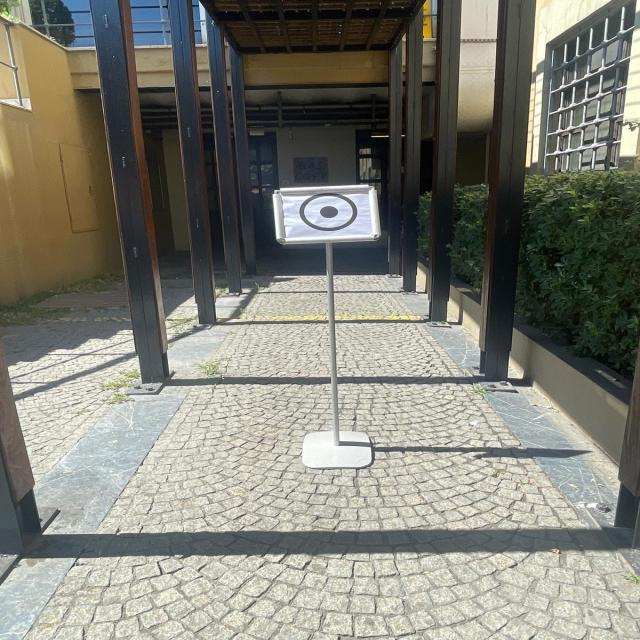Target: (265, 180, 394, 247)
inner: (314, 201, 346, 225)
